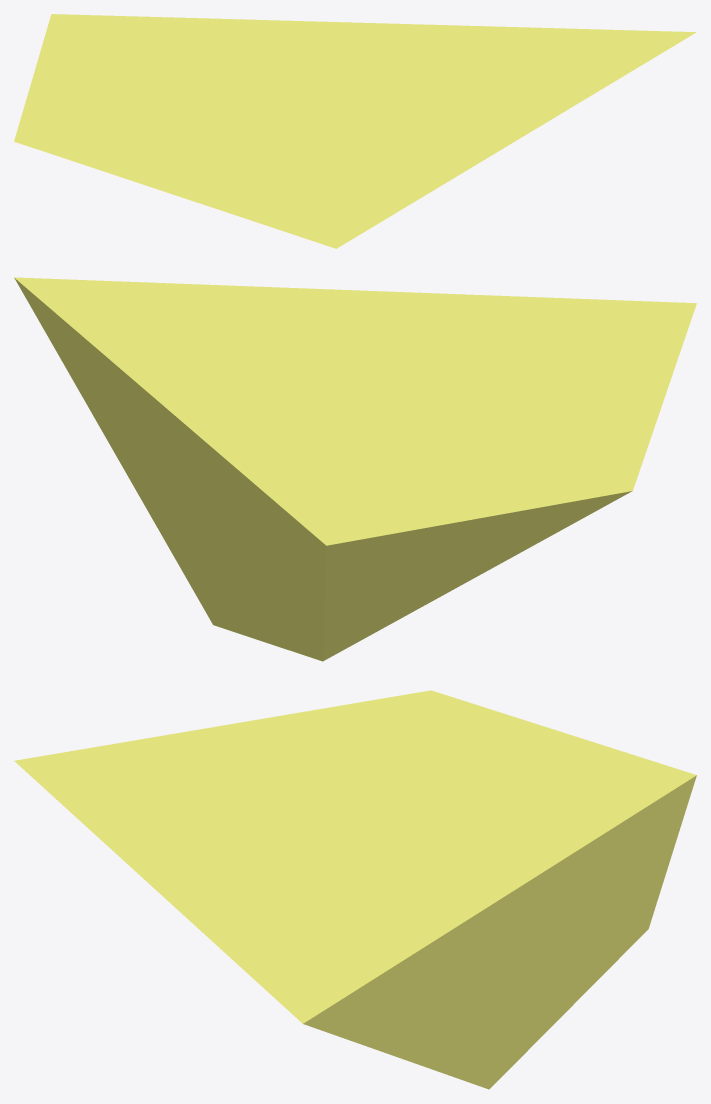
The model's file is breakableCenter_cell_002.fbx.
3 renders of one model, top to bottom at view 1: azimuth 30°, elevation 25°; view 2: azimuth 150°, elevation 25°; view 3: azimuth 270°, elevation 25°, orthographic. The views are drawn at different scales.
Parts seen in each view (by area): view 1: breakableCenter_cell.002; view 2: breakableCenter_cell.002; view 3: breakableCenter_cell.002.
Part boxes in pixels (<box>): breakableCenter_cell.002: <box>14,14,696,248</box>; breakableCenter_cell.002: <box>14,277,696,661</box>; breakableCenter_cell.002: <box>14,690,696,1089</box>.
Size of the model in its own units: 11.57 by 3.37 by 10.01.
